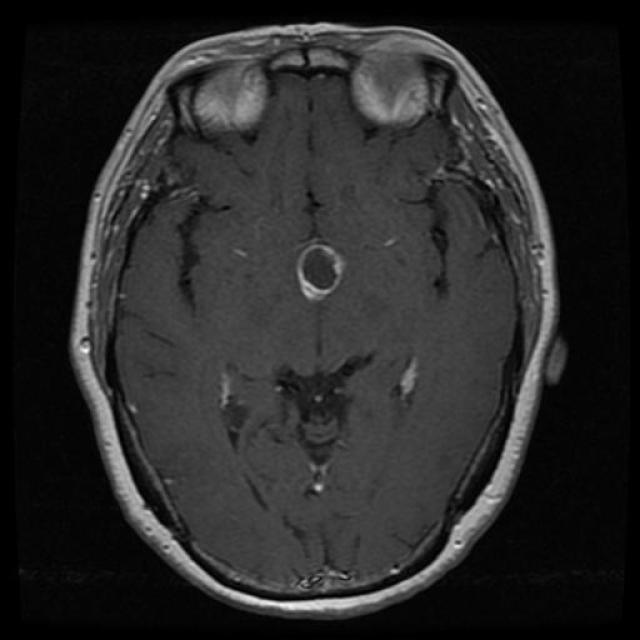pituitary: (288, 235, 356, 309)
